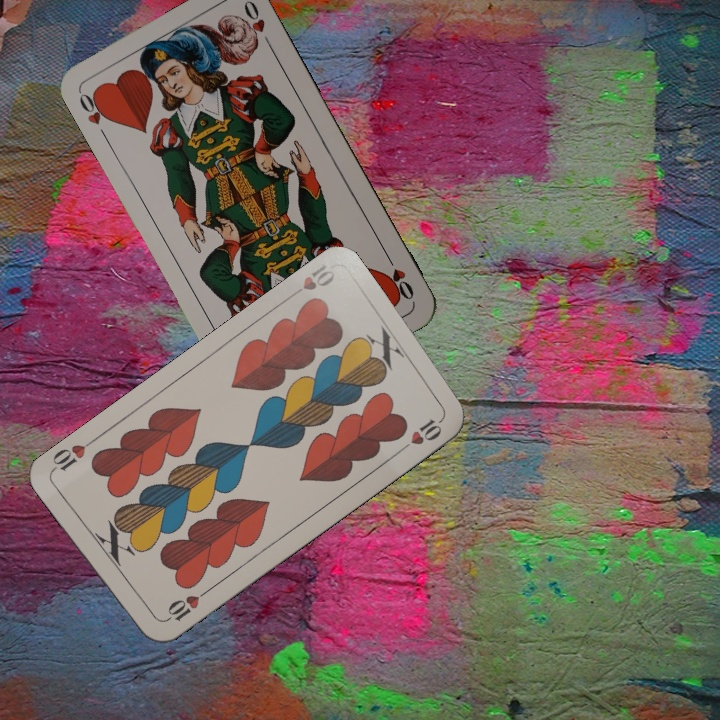H10: (283, 259, 338, 302), (159, 586, 211, 625)
HO: (75, 86, 114, 142), (381, 249, 417, 303)
